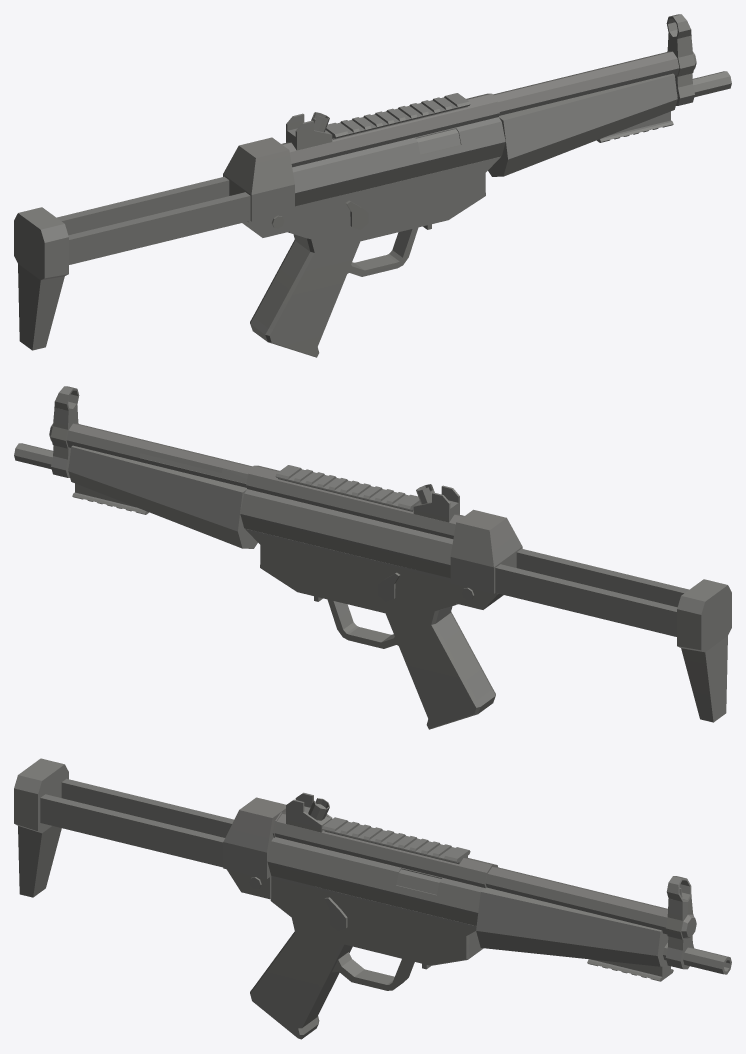
The model's file is SMG2_03.fbx.
3 renders of one model, top to bottom at view 1: azimuth 30°, elevation 25°; view 2: azimuth 150°, elevation 25°; view 3: azimuth 330°, elevation 25°, orthographic.
Visible parts, largest first — view 1: SMG2_03; view 2: SMG2_03; view 3: SMG2_03.
Part boxes in pixels (<box>): SMG2_03: <box>14,14,731,357</box>; SMG2_03: <box>14,386,731,729</box>; SMG2_03: <box>14,758,731,1039</box>.
Bounding box in the file's own units: 0.7164 × 0.2409 × 0.0566.
